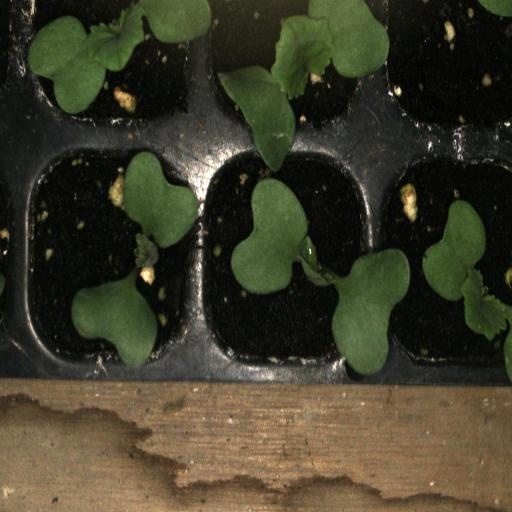Folha: (123, 151, 199, 267), (72, 275, 157, 369)
Germinacao: (197, 137, 377, 382), (17, 138, 196, 374), (379, 140, 512, 382), (199, 0, 379, 142), (18, 0, 196, 141)
